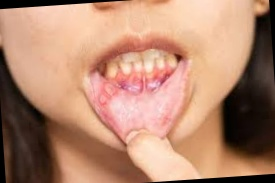Ulcer: (95, 75, 119, 110)
